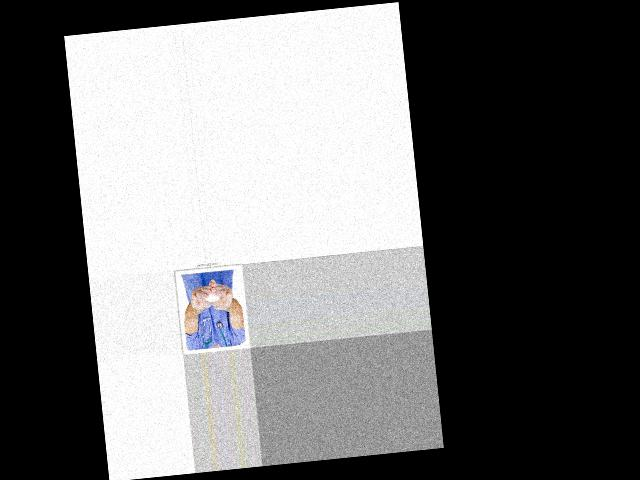egg: (203, 291, 220, 302)
